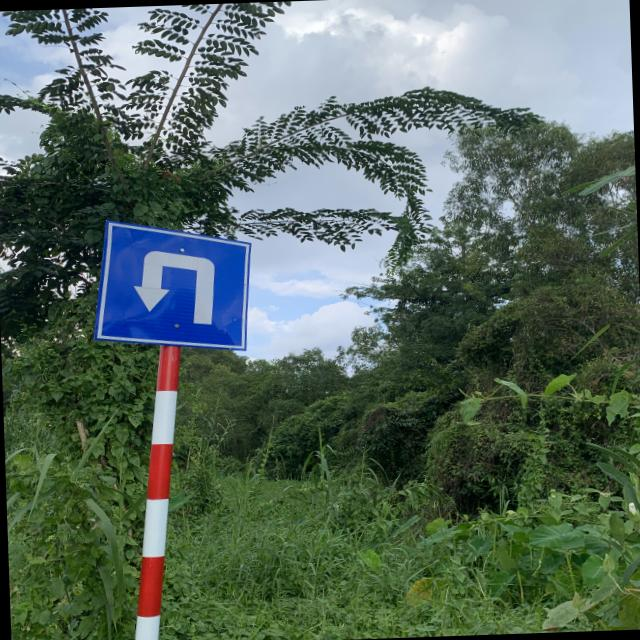Den_Giao_Thong: (90, 214, 256, 354)
